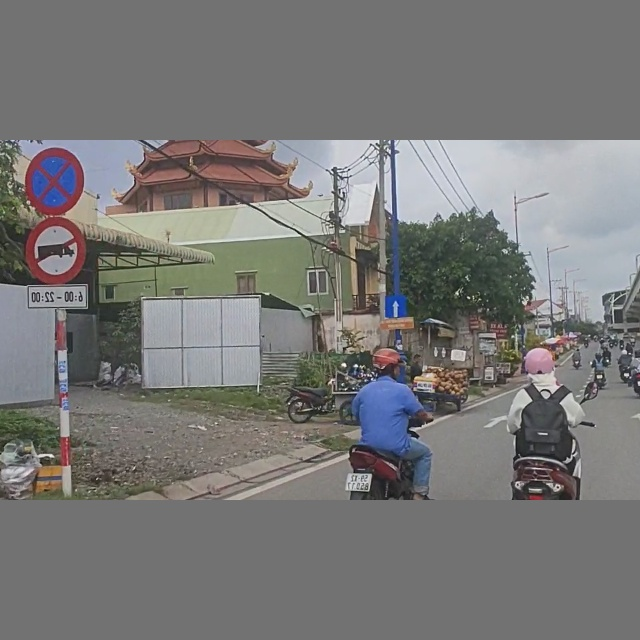B.8a: (26, 217, 86, 285)
I.407a: (383, 295, 407, 319)
P.130: (26, 148, 83, 215)
